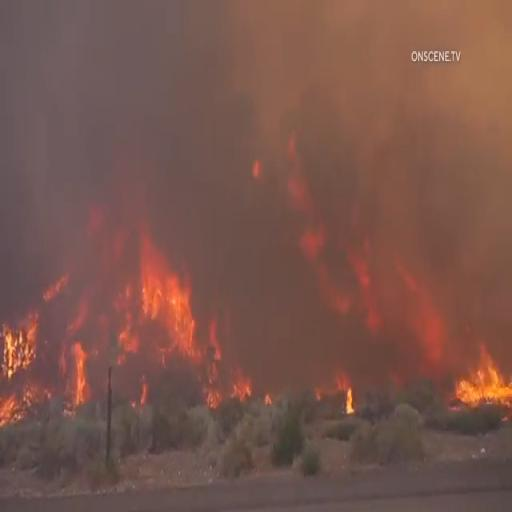fire: (82, 184, 216, 367), (0, 284, 78, 413), (206, 323, 287, 408), (454, 337, 512, 418), (336, 367, 403, 424)
smoke: (2, 3, 279, 168), (398, 82, 508, 219), (218, 192, 297, 315), (352, 22, 402, 170)
